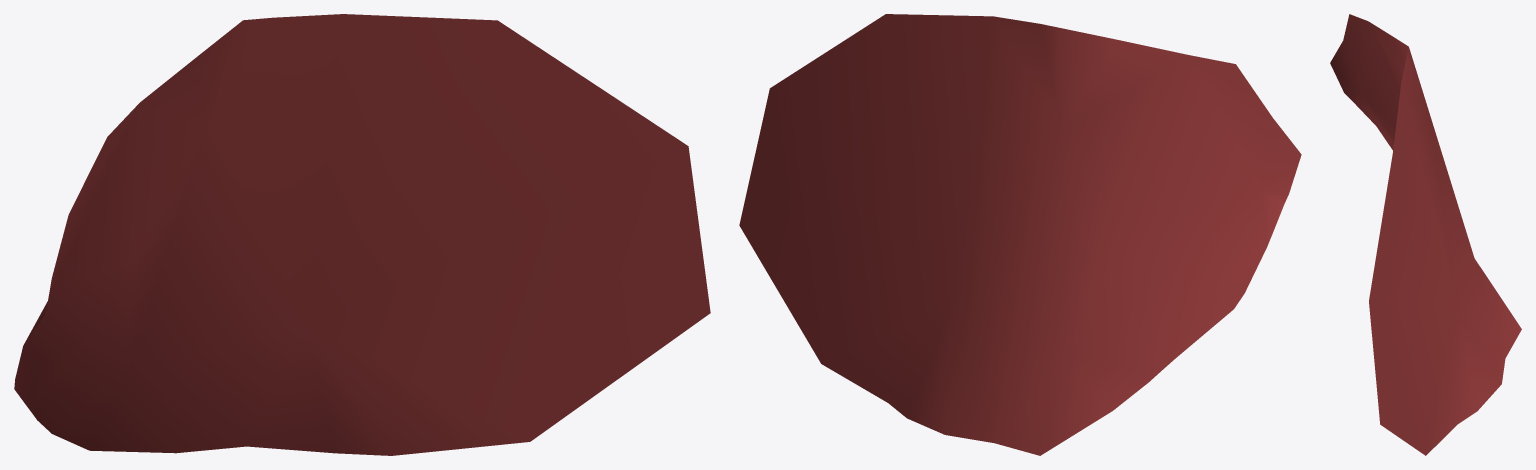
File: plantaris-muscle-or.glb
3 renders of one model, left to right at view 1: azimuth 30°, elevation 25°; view 2: azimuth 150°, elevation 25°; view 3: azimuth 270°, elevation 25°, orthographic. The views are drawn at different scales.
Visible parts, largest first — view 1: Plantaris muscle.or; view 2: Plantaris muscle.or; view 3: Plantaris muscle.or.
Part boxes in pixels (<box>): Plantaris muscle.or: <box>14,14,710,455</box>; Plantaris muscle.or: <box>739,14,1301,455</box>; Plantaris muscle.or: <box>1330,14,1521,455</box>.
Bounding box in the file's own units: 0.0171 × 0.0119 × 0.00649.
